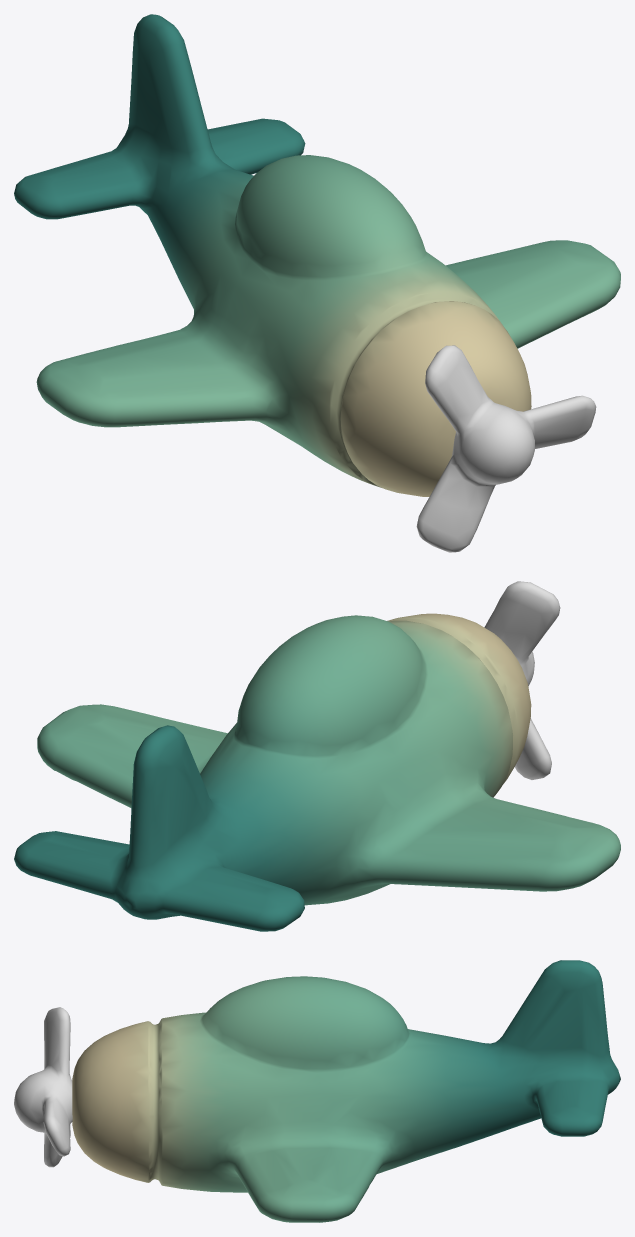
File: PlayerPlane.fbx
The picture shows the model from 3 angles, top to bottom: view 1: azimuth 30°, elevation 25°; view 2: azimuth 150°, elevation 25°; view 3: azimuth 270°, elevation 25°; orthographic projection. The views are drawn at different scales.
Visible parts, largest first — view 1: Body, Propeller; view 2: Body, Propeller; view 3: Body, Propeller.
Boxes of the visible parts, x1,y1,x2,y2 form: Body: [14, 14, 620, 496]; Propeller: [416, 345, 596, 552]; Body: [14, 613, 620, 931]; Propeller: [484, 581, 560, 779]; Body: [72, 960, 620, 1222]; Propeller: [14, 1007, 72, 1167].
Size of the model in its own units: 0.8731 by 0.4269 by 1.05.
